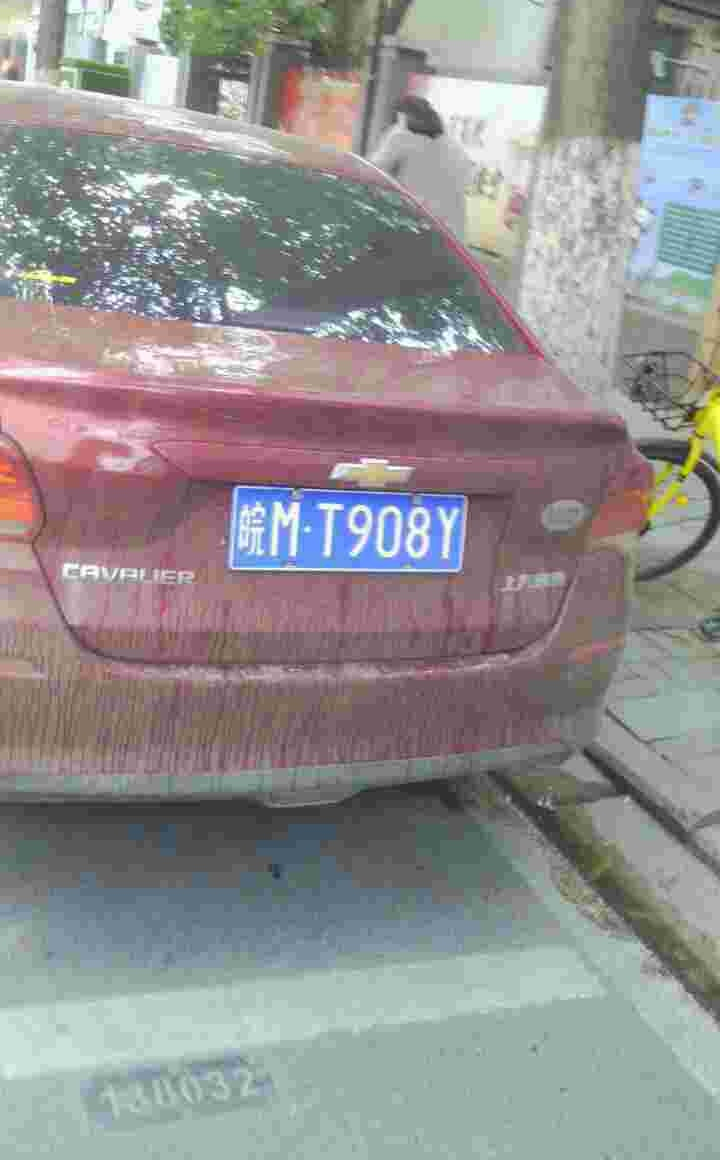license_plate: (236, 488, 468, 575)
